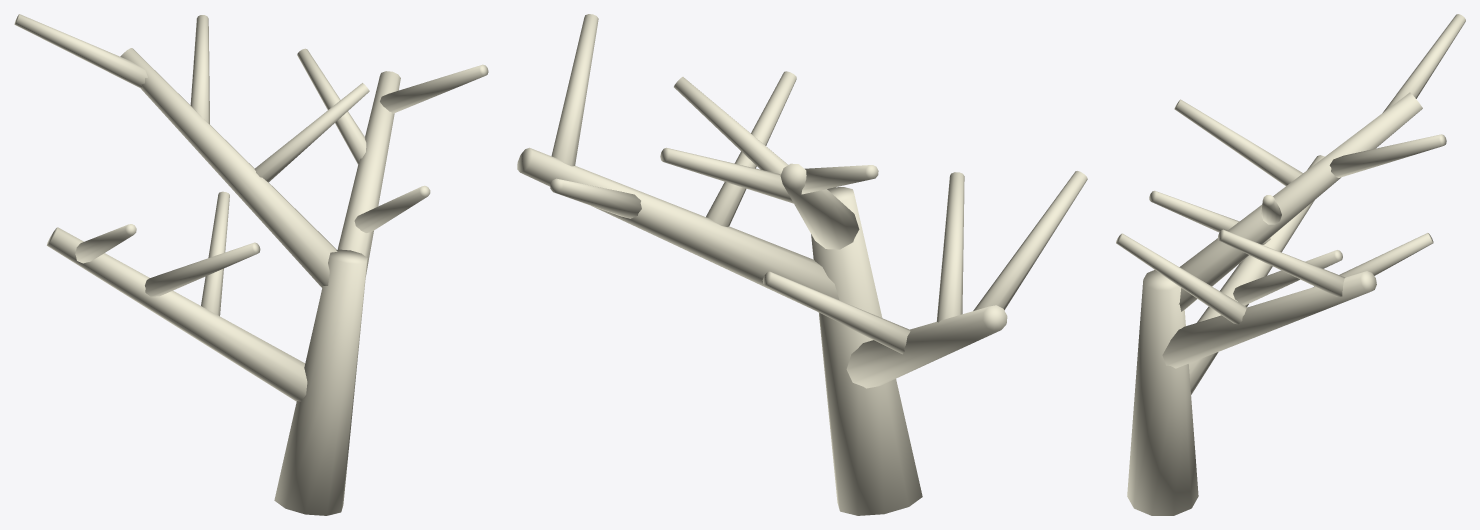
File: underwater-reef-worlds-bleached-coral-e1841d0c__7002.glb
3 views of the same model, side by side, from view 1: azimuth 30°, elevation 25°; view 2: azimuth 150°, elevation 25°; view 3: azimuth 270°, elevation 25° (orthographic). The views are drawn at different scales.
Visible parts, largest first — view 1: bleached-coral; view 2: bleached-coral; view 3: bleached-coral.
Boxes of the visible parts, <box> form: bleached-coral: <box>14,14,488,515</box>; bleached-coral: <box>517,14,1087,515</box>; bleached-coral: <box>1116,14,1465,515</box>.
Bounding box in the file's own units: 1.18 × 1.21 × 0.9156.
